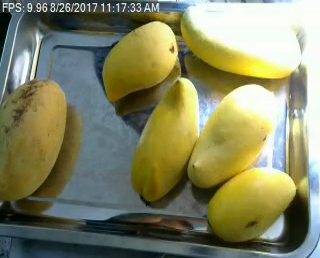Mango: (187, 82, 275, 186), (179, 5, 302, 78), (133, 77, 200, 201), (0, 80, 66, 200), (207, 168, 295, 242), (102, 21, 178, 101)
